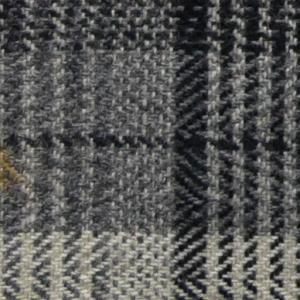Stain: (2, 134, 30, 198)
